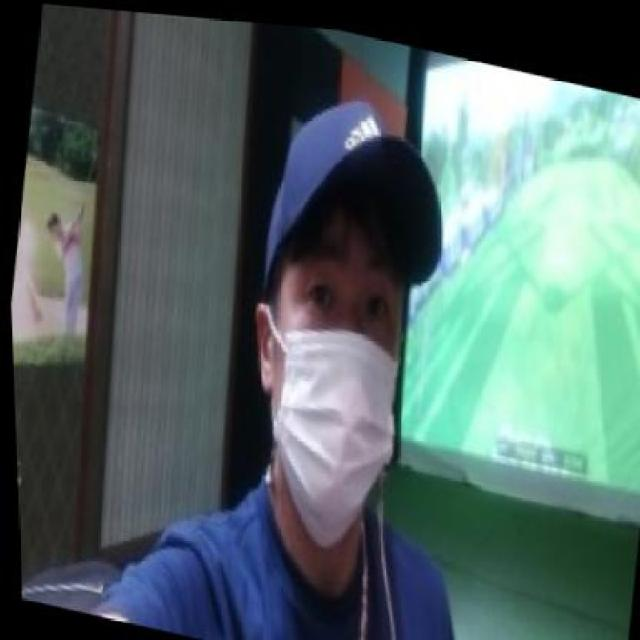hat: (249, 72, 462, 331)
